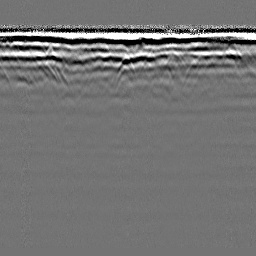cavity: (115, 54, 138, 81)
